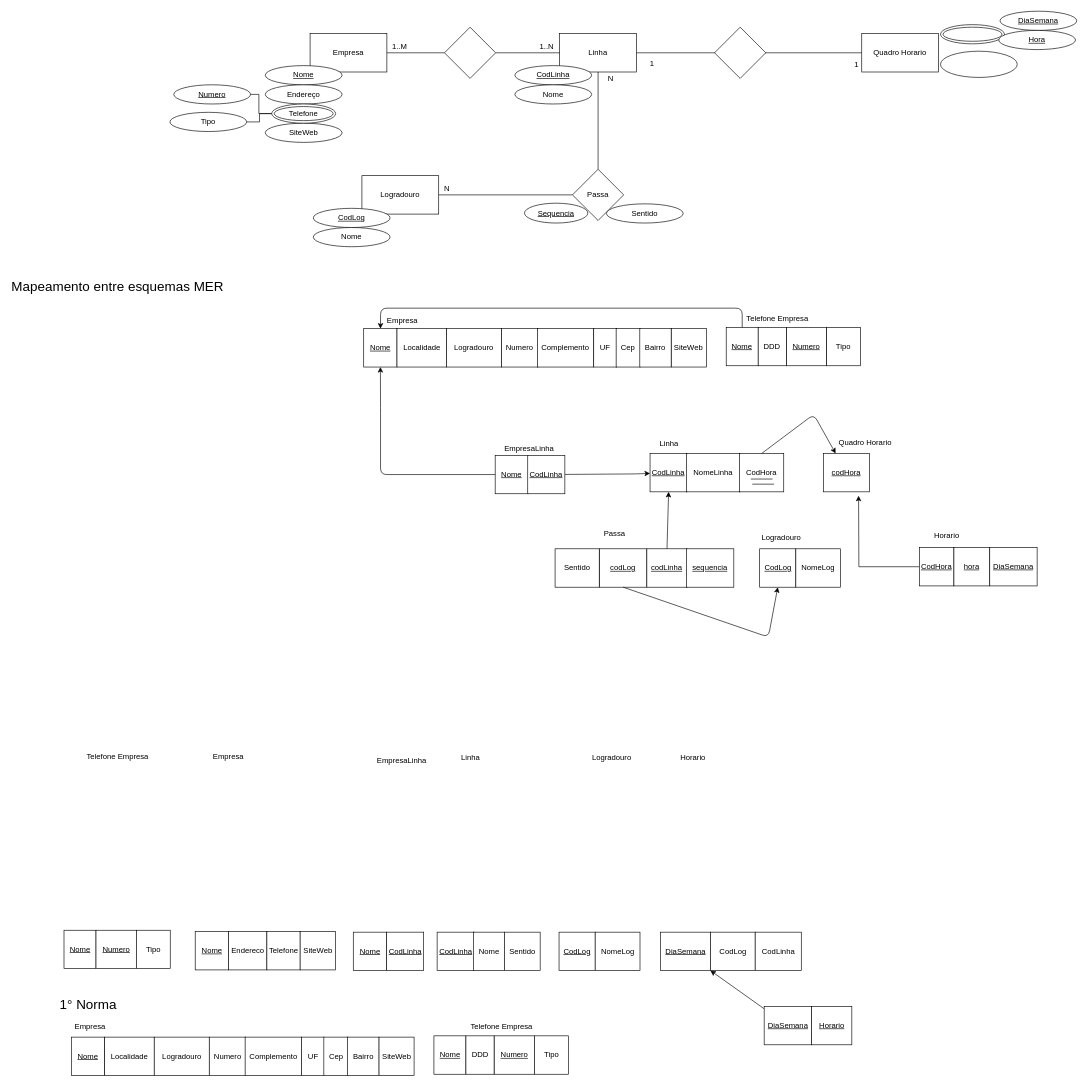
This 1089x1087 diagram has some shape labels left out. The shapes that lost their labels are listed below. From the top down, each one's centre as x and y in pixels, then its label:
pixel 470 52: Trabalha
pixel 740 52: Possui
pixel 972 34: Horário
pixel 978 64: CodHorario
